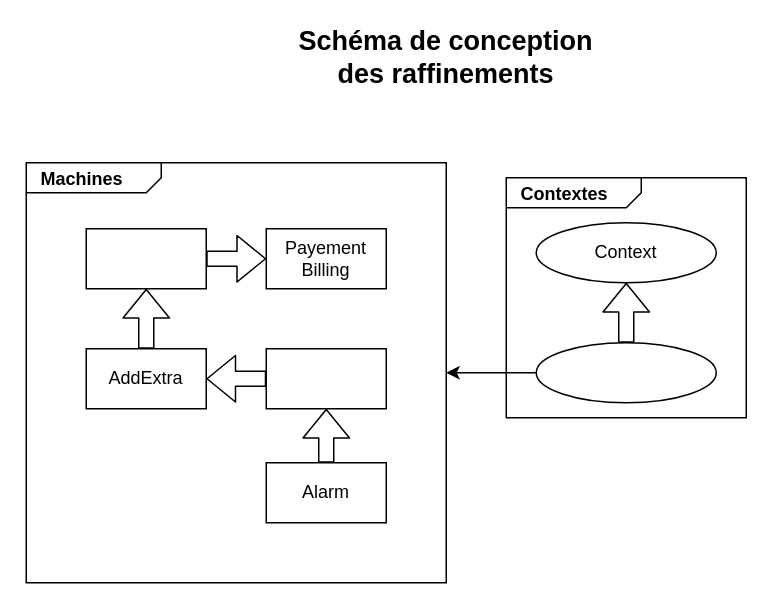
Image size: 773x609. Some labels were removed from this diagram. The centre of each missing label's shape, as x and y in pixels:
"CheckInOut" goes at (145,258).
"Cleaner" goes at (325,378).
"setParameters" goes at (625,372).
